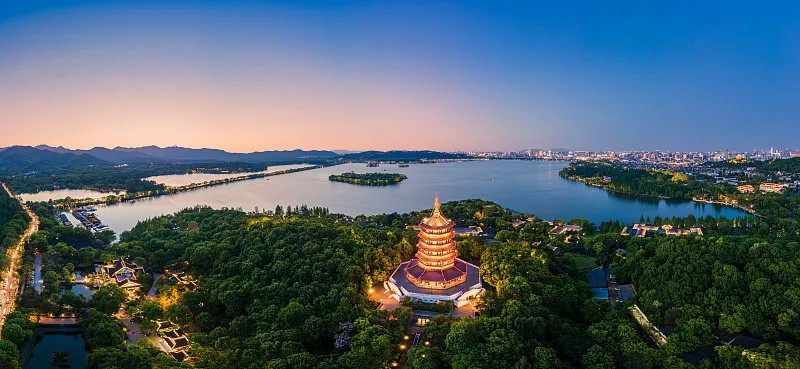Leifeng: (389, 191, 483, 306)
